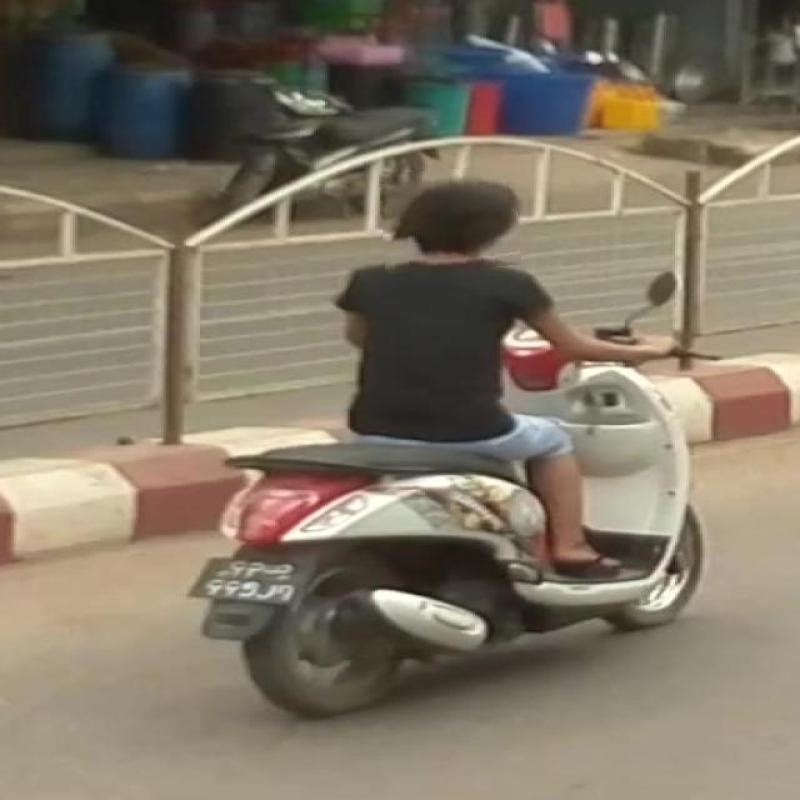nohelmet: (381, 168, 520, 272)
